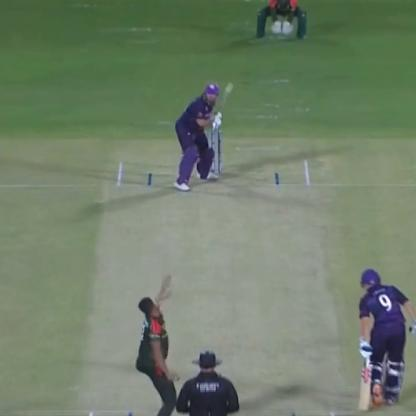bat: (351, 344, 377, 414), (207, 73, 237, 132)
pitch: (81, 152, 349, 414)
